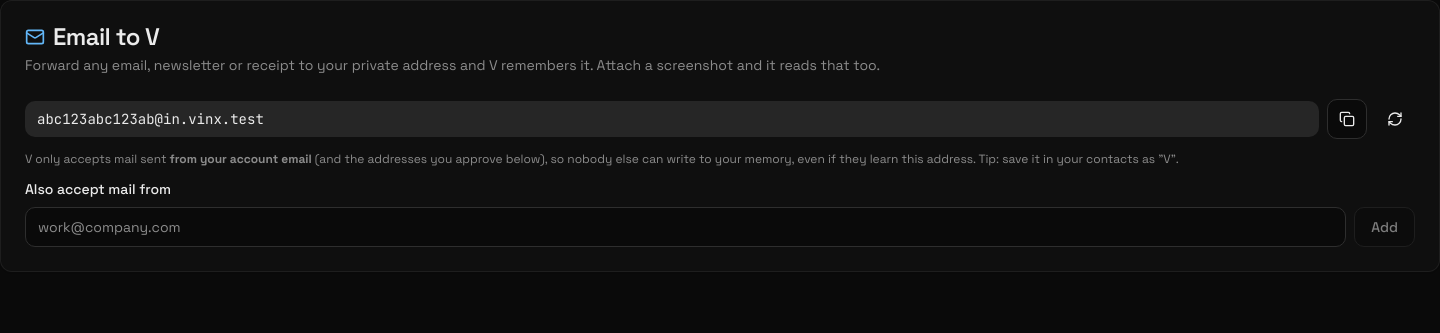
Test: Email settings card › adds and removes an approved sender
Type "work@corp.com" into the field named "Another email address to accept" at (686, 227), box left=25, top=207, right=1346, bottom=247
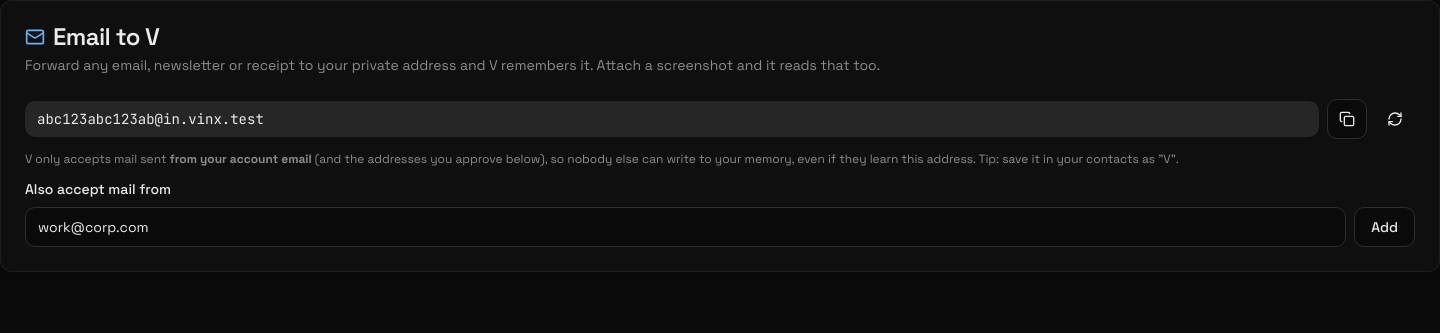
Click the button "Add" at (1385, 227), box left=1354, top=207, right=1415, bottom=247
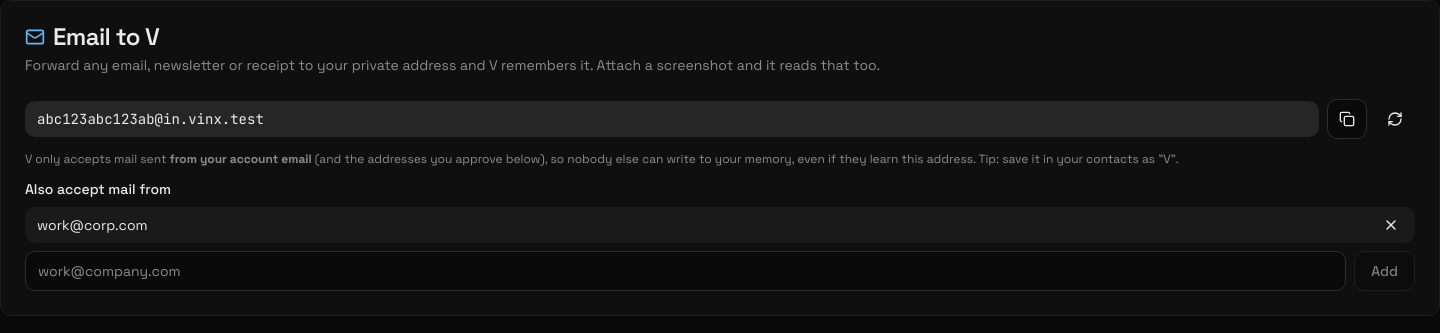
Result: the text "work@corp.com" is shown at left=37, top=215, right=148, bottom=235
Click the button named "Remove work@corp.com" at (1391, 225), box left=1379, top=213, right=1403, bottom=237
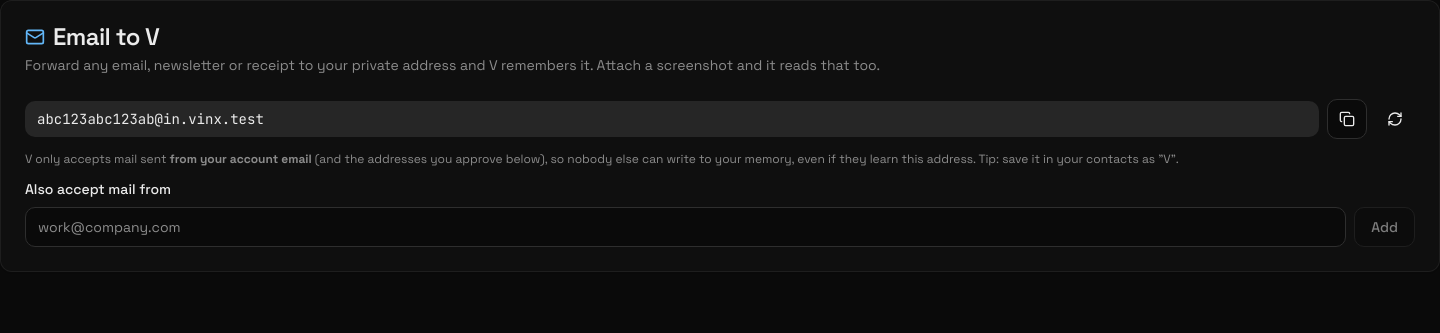
Result: the text "work@corp.com" is gone
